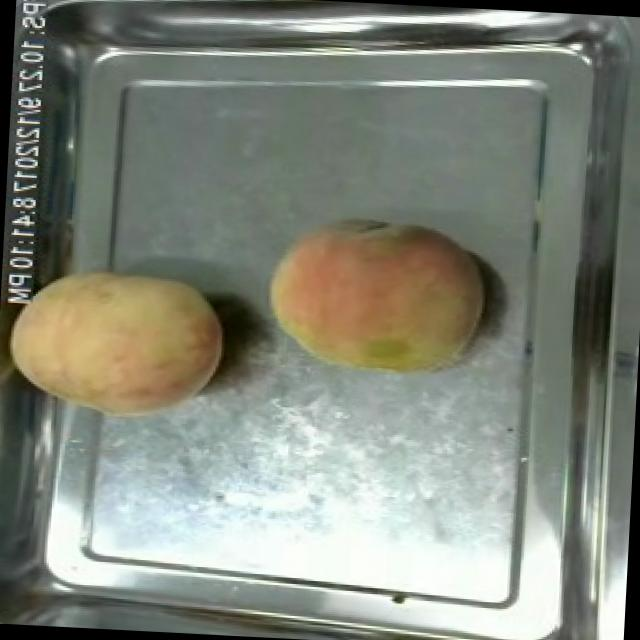Fruit: (256, 209, 494, 387), (0, 251, 235, 431)
